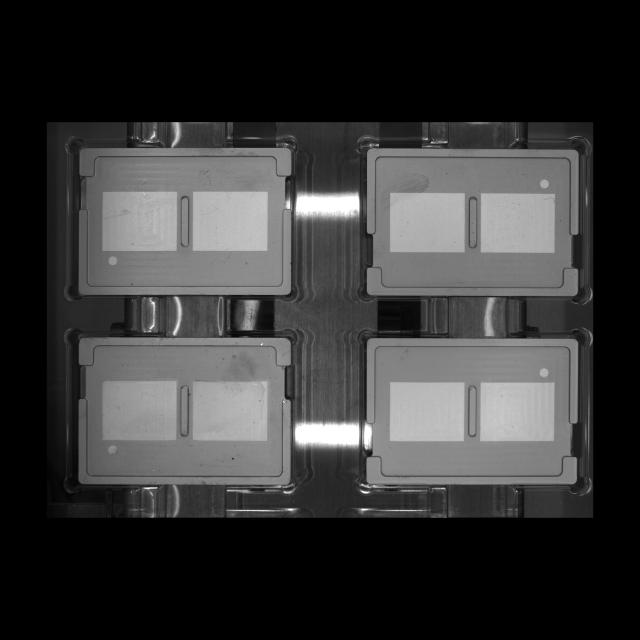product: (63, 134, 303, 304), (355, 134, 590, 305), (63, 326, 297, 497), (356, 327, 590, 496)
